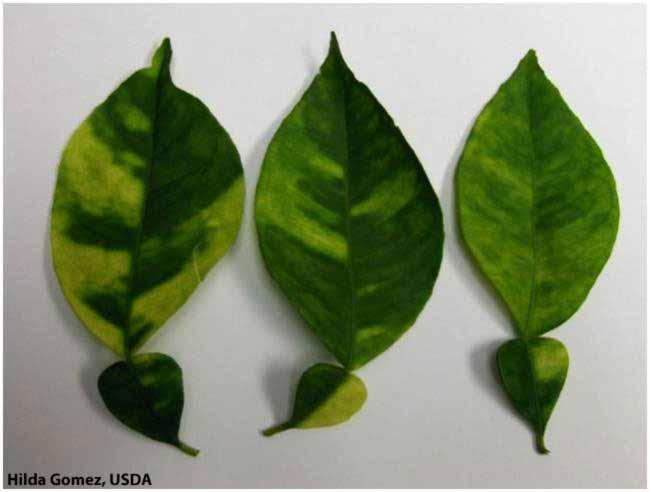Citrus Greening: (46, 33, 245, 458), (252, 29, 449, 439), (451, 42, 625, 462)
